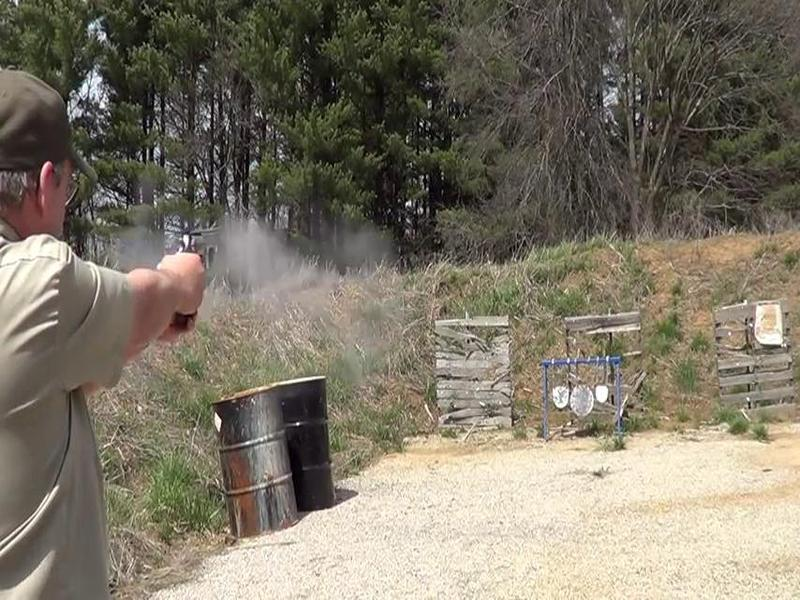Revolver: (159, 213, 249, 286)
